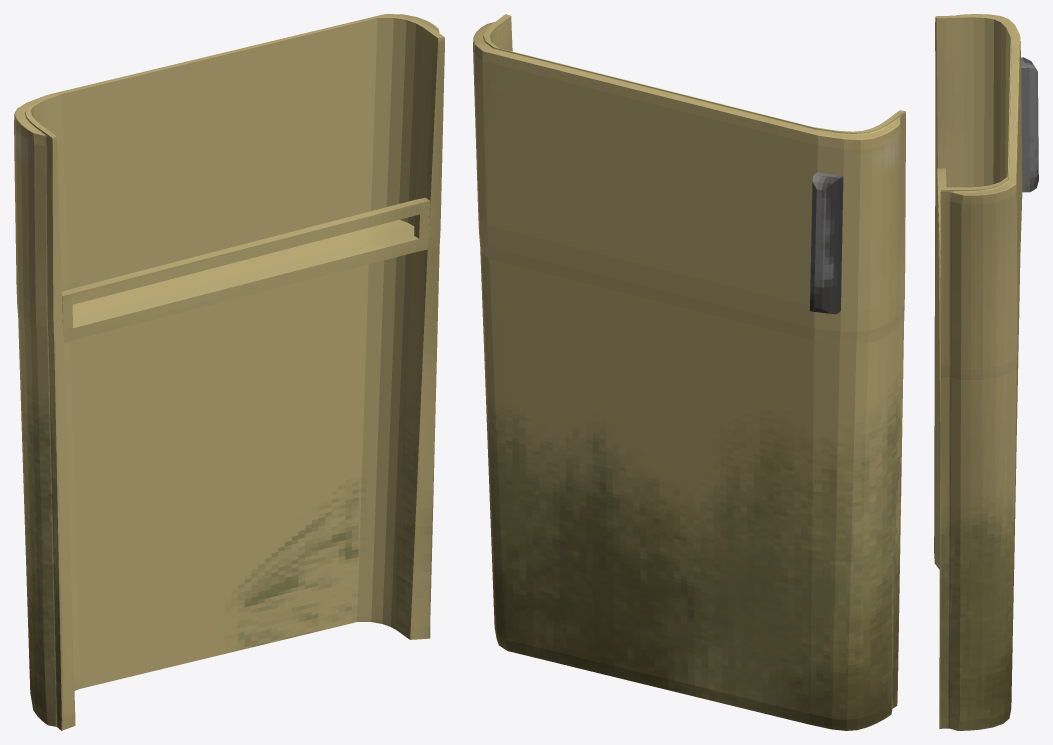
Rendered from Fridge_Door_01.fbx.
3 renders of one model, left to right at view 1: azimuth 30°, elevation 25°; view 2: azimuth 150°, elevation 25°; view 3: azimuth 270°, elevation 25°, orthographic. The views are drawn at different scales.
Visible parts, largest first — view 1: Fridge_Door_01; view 2: Fridge_Door_01; view 3: Fridge_Door_01.
Boxes of the visible parts, left/top/right/bottom form: Fridge_Door_01: left=14, top=14, right=444, bottom=730; Fridge_Door_01: left=473, top=14, right=905, bottom=730; Fridge_Door_01: left=934, top=14, right=1038, bottom=730.
Bounding box in the file's own units: 8.14 × 11.34 × 1.97.
